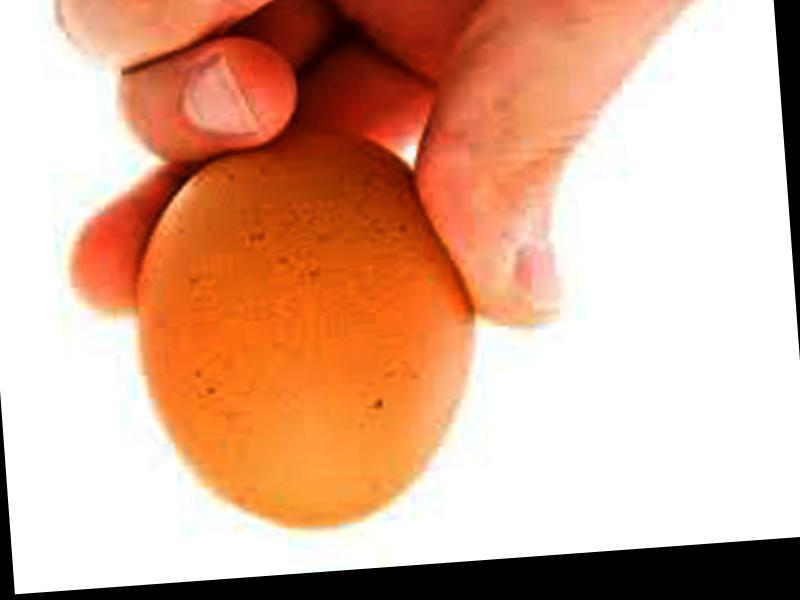Eggs: (123, 128, 488, 543)
